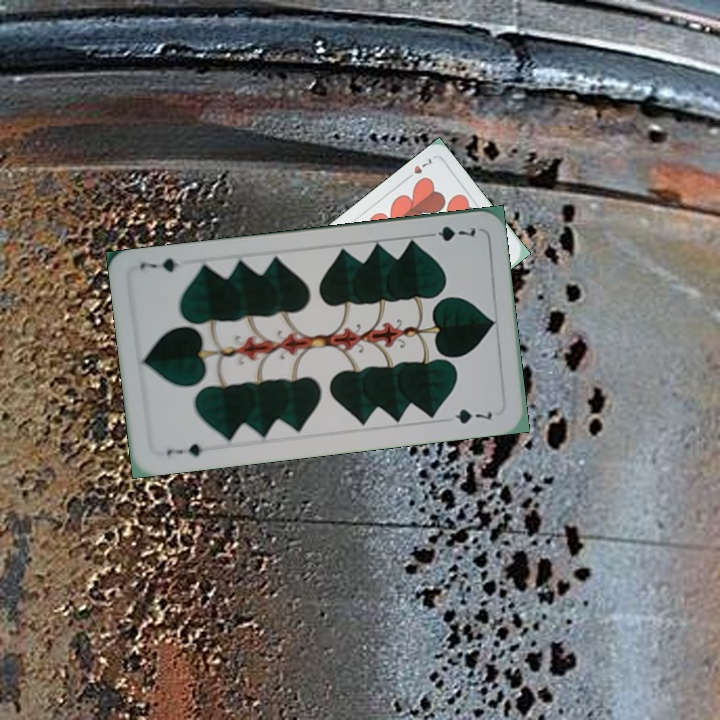G7: (421, 221, 479, 244), (162, 439, 206, 459)
H7: (401, 154, 434, 183)
